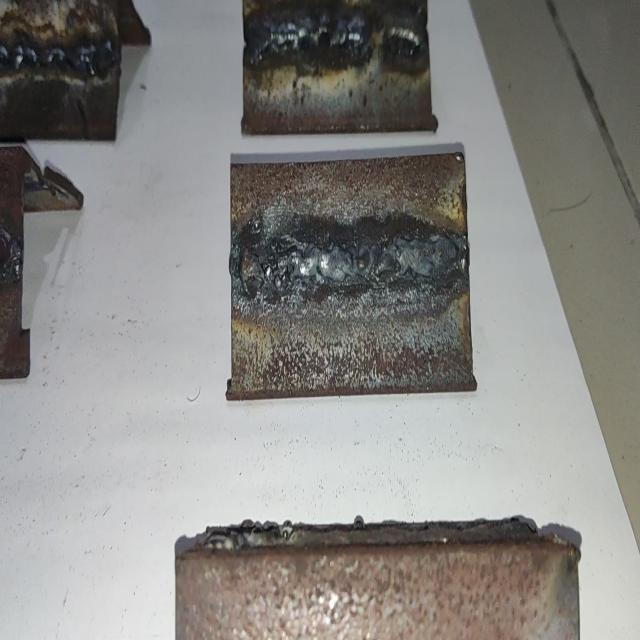Bad Weld: (234, 234, 469, 290), (247, 18, 428, 63), (0, 38, 119, 73)
Defect: (337, 232, 462, 293), (246, 19, 354, 70), (0, 30, 116, 77), (233, 238, 321, 290), (359, 15, 402, 67)
